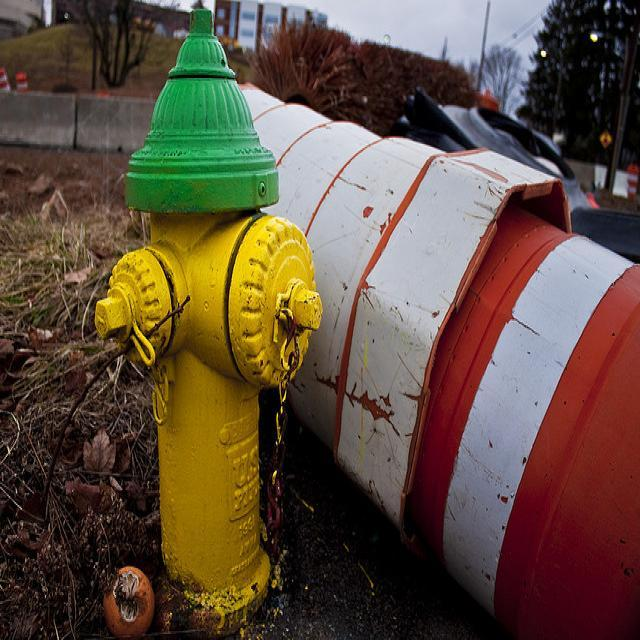fire_hydrant: (93, 6, 323, 630)
